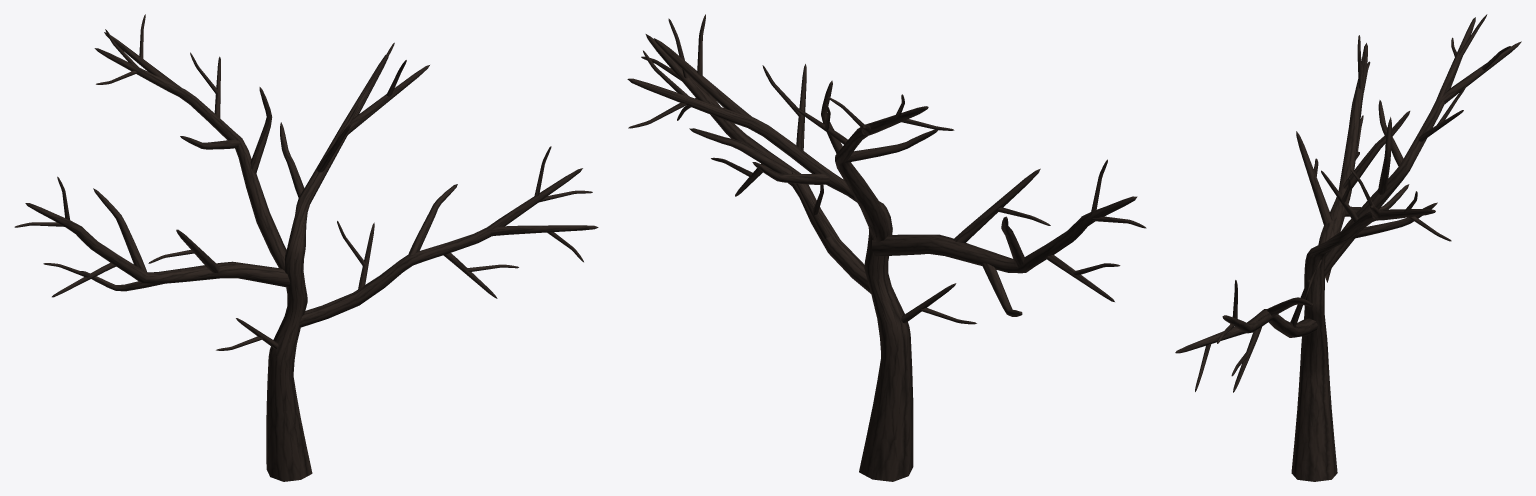
Rendered from dead_tree_8.glb.
3 renders of one model, left to right at view 1: azimuth 30°, elevation 25°; view 2: azimuth 150°, elevation 25°; view 3: azimuth 270°, elevation 25°, orthographic. The views are drawn at different scales.
Visible parts, largest first — view 1: DeadTree_82; view 2: DeadTree_82; view 3: DeadTree_82.
Boxes of the visible parts, x1,y1,x2,y2 form: DeadTree_82: [14, 14, 598, 481]; DeadTree_82: [627, 14, 1146, 481]; DeadTree_82: [1175, 14, 1521, 481].
Size of the model in its own units: 8.17 by 6.28 by 4.8.
1 material, 1 textured.
